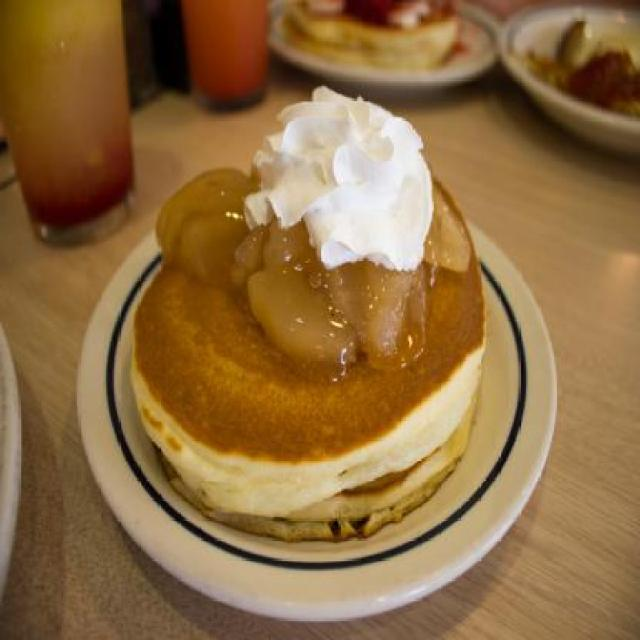Pancake: (123, 106, 483, 552), (277, 0, 463, 72)
